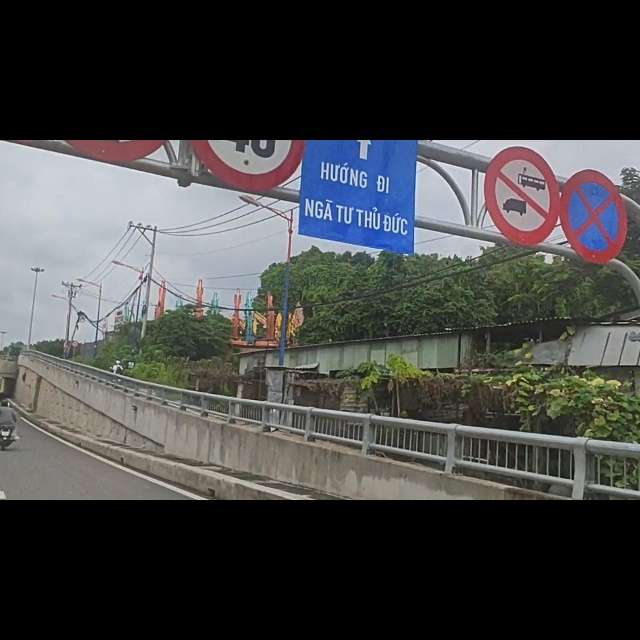bien_nguy_hiem: (483, 8, 559, 190), (561, 52, 628, 222)
